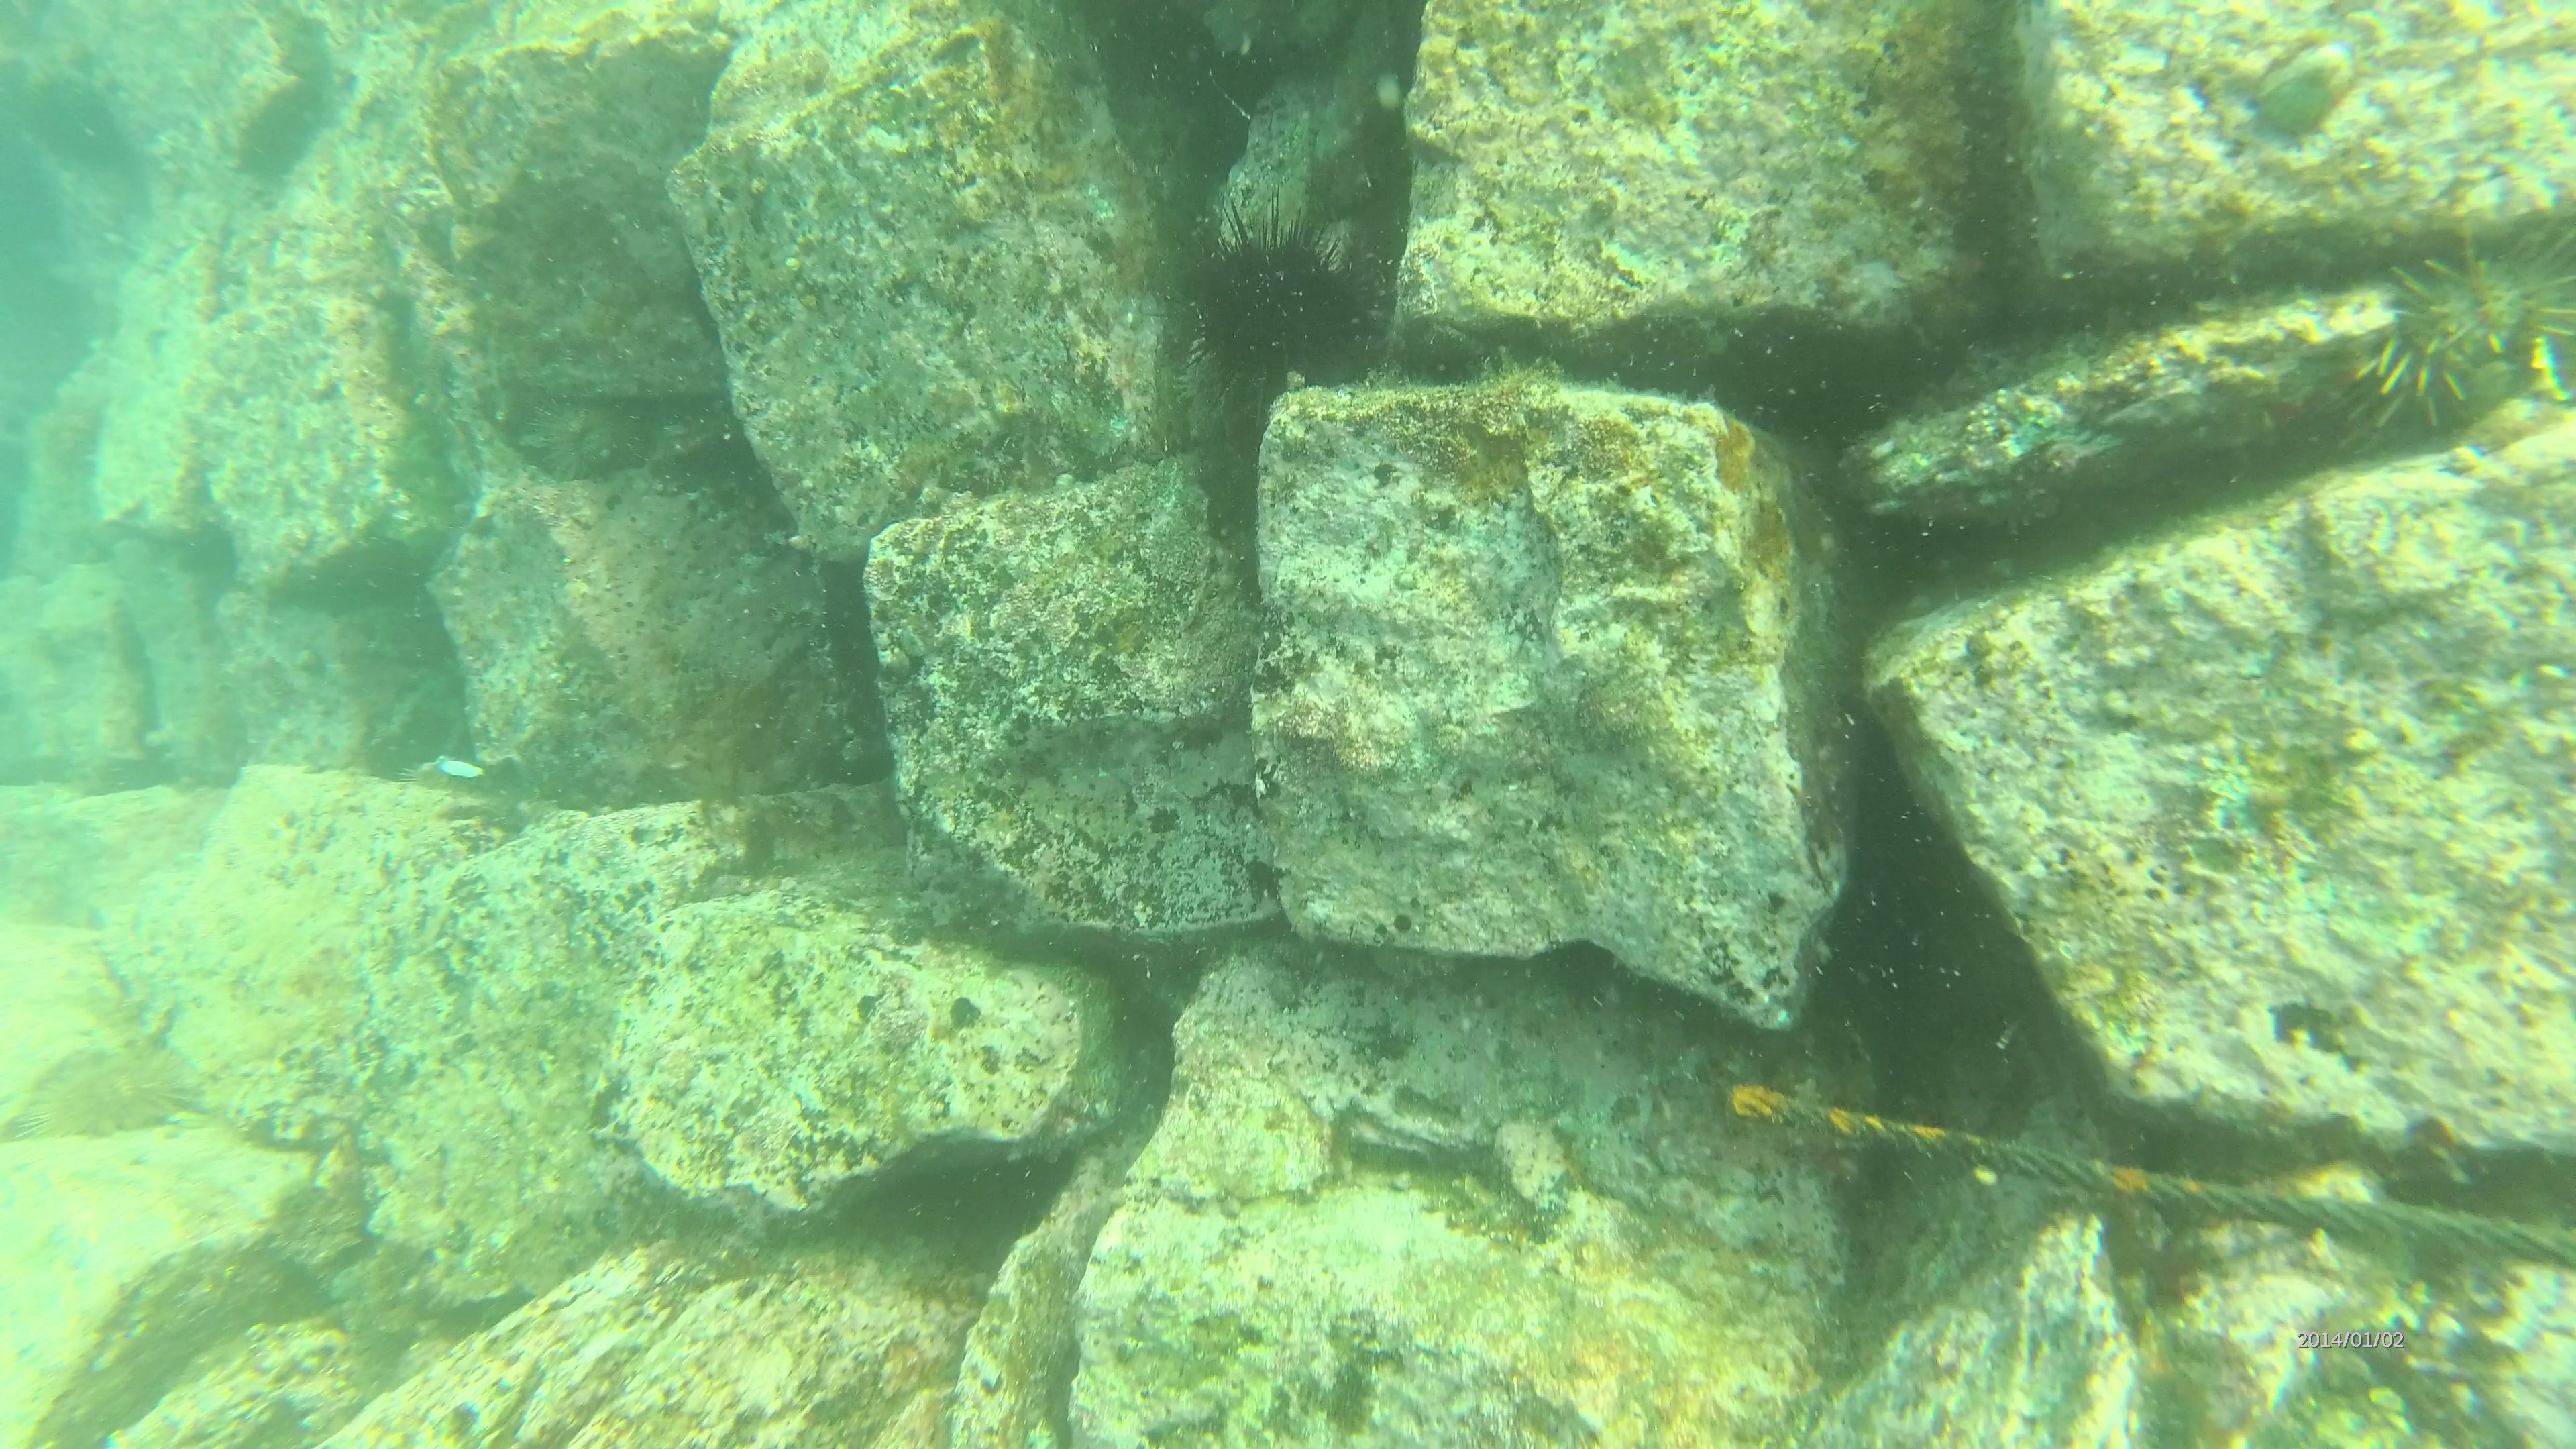echinus: (2380, 209, 2576, 449), (1180, 200, 1378, 377), (513, 386, 655, 490)
